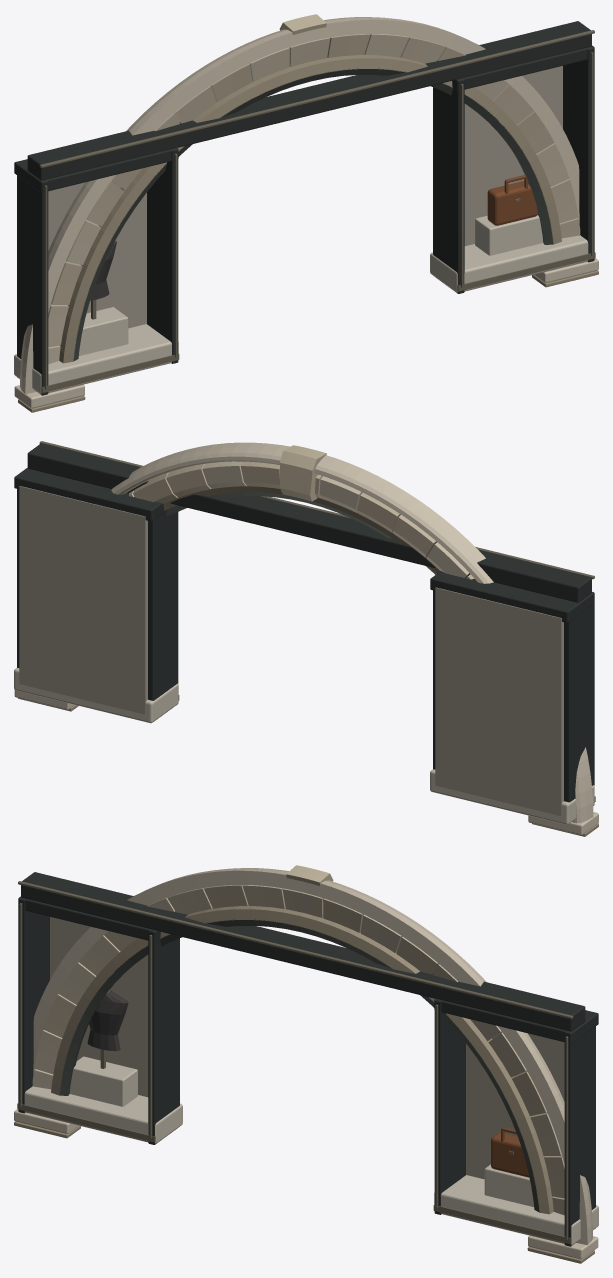
File: newcore-arch.glb
3 renders of one model, top to bottom at view 1: azimuth 30°, elevation 25°; view 2: azimuth 150°, elevation 25°; view 3: azimuth 330°, elevation 25°, orthographic.
Parts seen in each view (by area): view 1: BoutiqueWindow, NewcoreArch; view 2: BoutiqueWindow, NewcoreArch; view 3: BoutiqueWindow, NewcoreArch.
Boxes of the visible parts, x1,y1,x2,y2 form: BoutiqueWindow: (14, 21, 595, 395); NewcoreArch: (14, 14, 598, 412); BoutiqueWindow: (14, 441, 595, 824); NewcoreArch: (14, 442, 598, 836); BoutiqueWindow: (17, 872, 598, 1246); NewcoreArch: (14, 865, 598, 1263).
Size of the model in its own units: 7.21 by 3.82 by 0.648.
